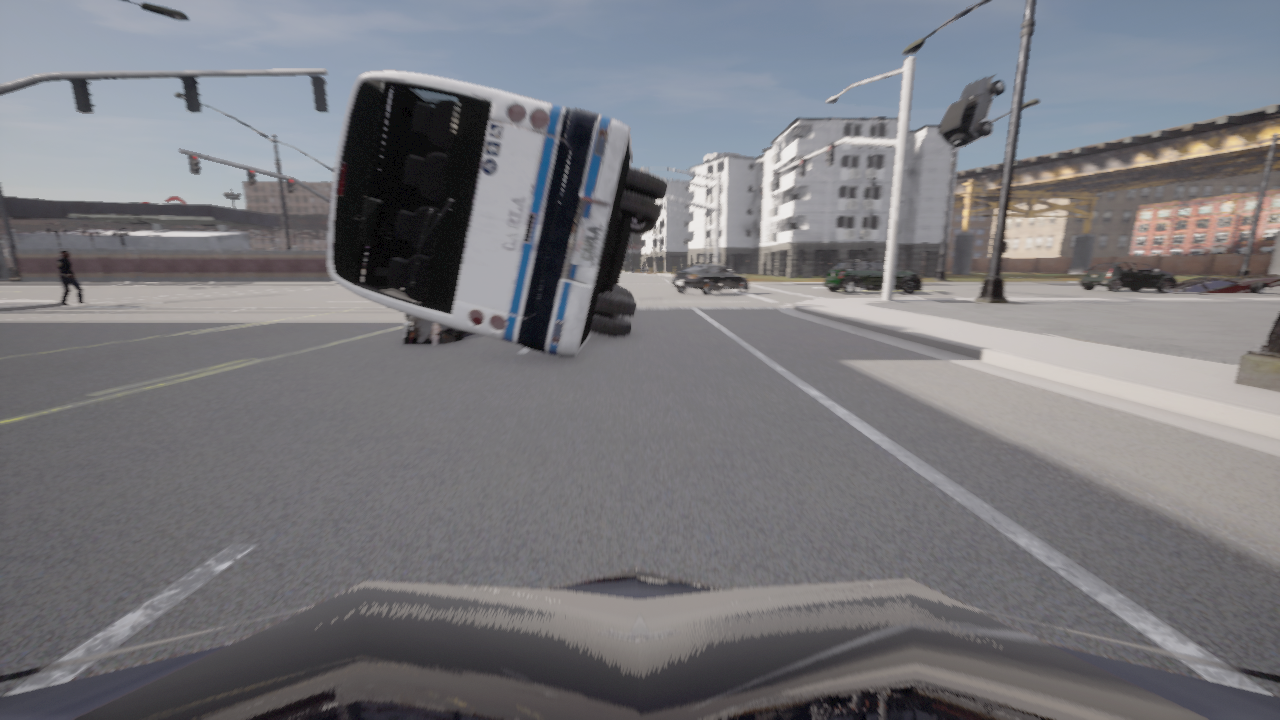cyclist: (0, 569, 1279, 719), (328, 71, 667, 357), (939, 73, 1005, 149), (824, 260, 921, 293), (1079, 262, 1176, 292), (402, 314, 485, 345), (671, 264, 749, 295), (1168, 275, 1279, 294), (8, 267, 12, 276)
pedestrian: (56, 250, 89, 306)
